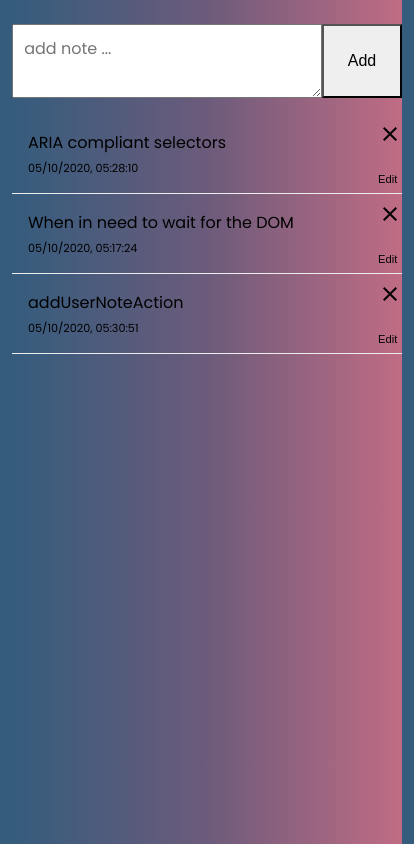
it: UserNotes › should delete user note
Check: the text "When in need to wait for the DOM" is shown, box [28,211,294,234]
Click the button with test id "1601855244621_delete".
click(390, 214)  # box [378,202,402,226]
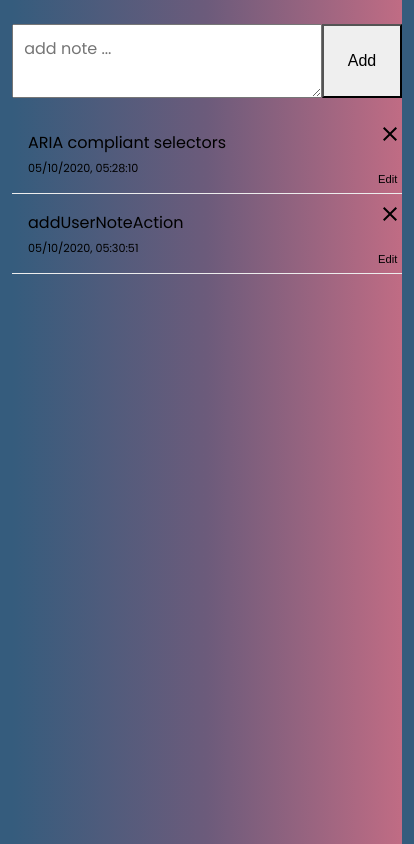
Check: the text "When in need to wait for the DOM" is gone
